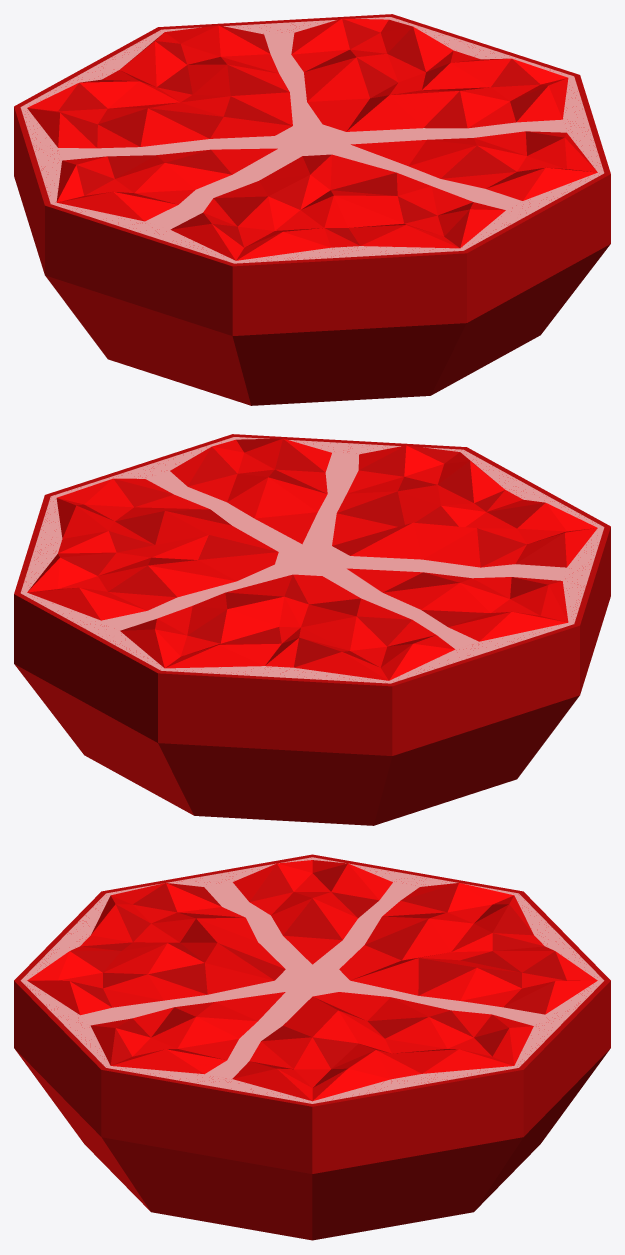
Rendered from pomegranate02.obj.
3 views of the same model, one above another, from view 1: azimuth 30°, elevation 25°; view 2: azimuth 150°, elevation 25°; view 3: azimuth 270°, elevation 25° (orthographic). The views are drawn at different scales.
Visible parts, largest first — view 1: Cylinder; view 2: Cylinder; view 3: Cylinder.
Boxes of the visible parts, bbox=[...] form: Cylinder: bbox=[14, 14, 610, 405]; Cylinder: bbox=[14, 434, 610, 825]; Cylinder: bbox=[14, 854, 610, 1240].
Size of the model in its own units: 0.109 by 0.0454 by 0.109.
1 material, 1 textured.
